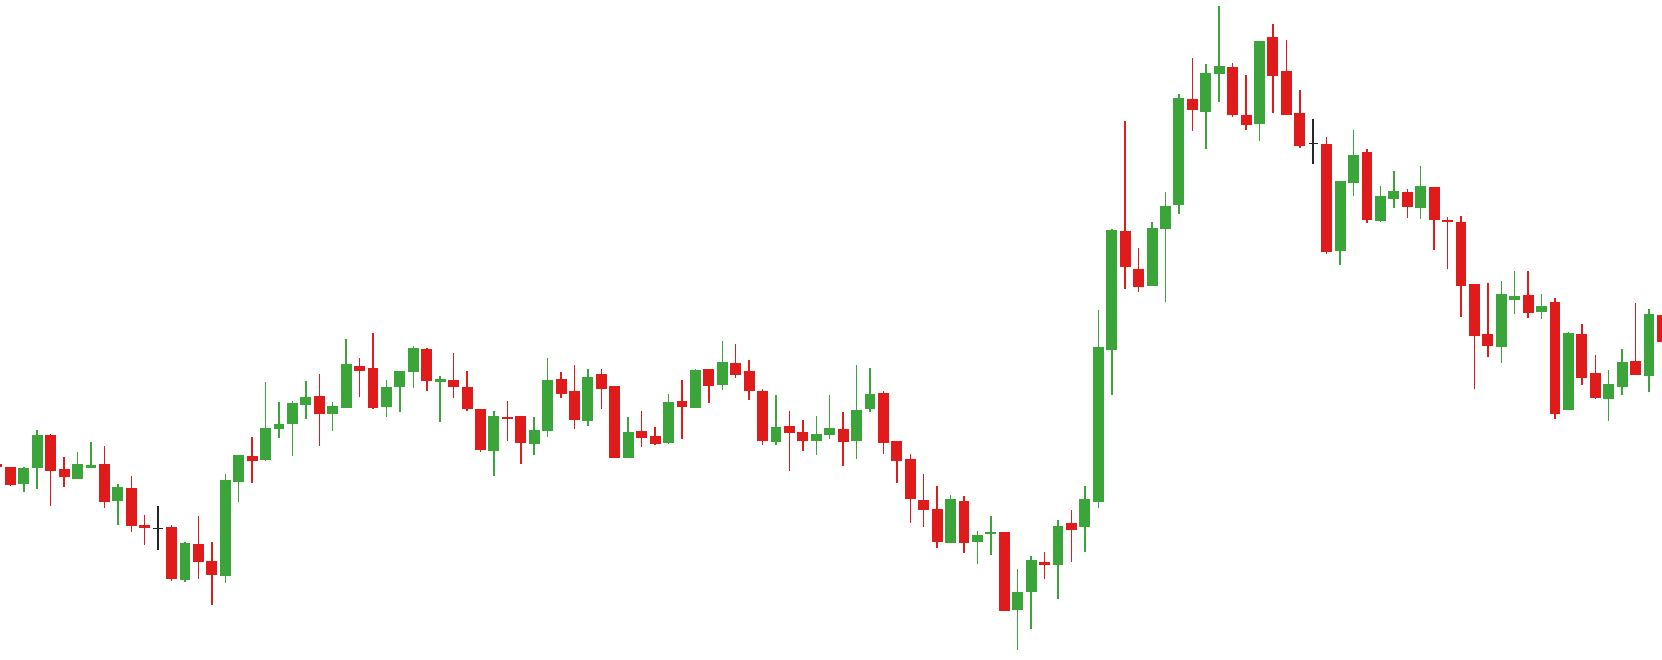sell: (770, 365, 892, 454)
